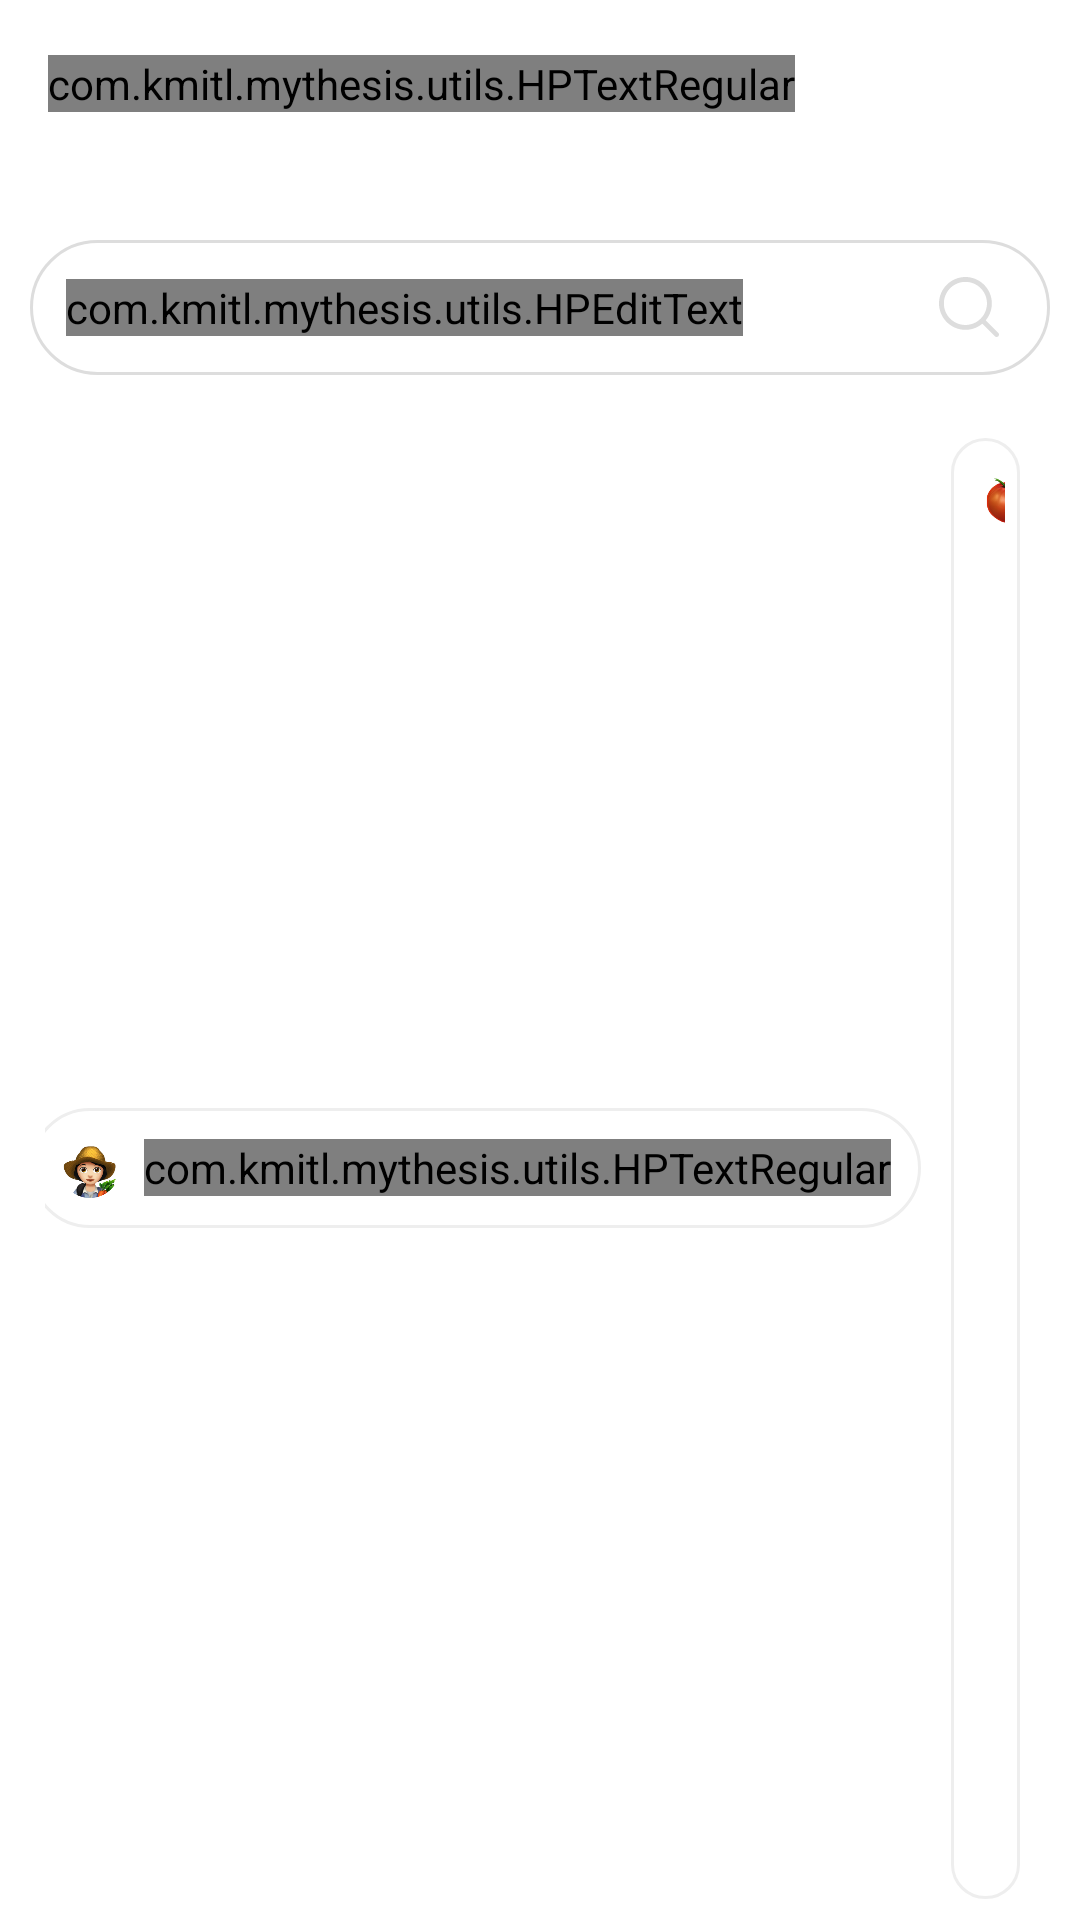

Point at icon controls on the screen. Image size 1080*1920, points as (x,y).
farmer circle: (90,1172)
navbar search: (969,307)
